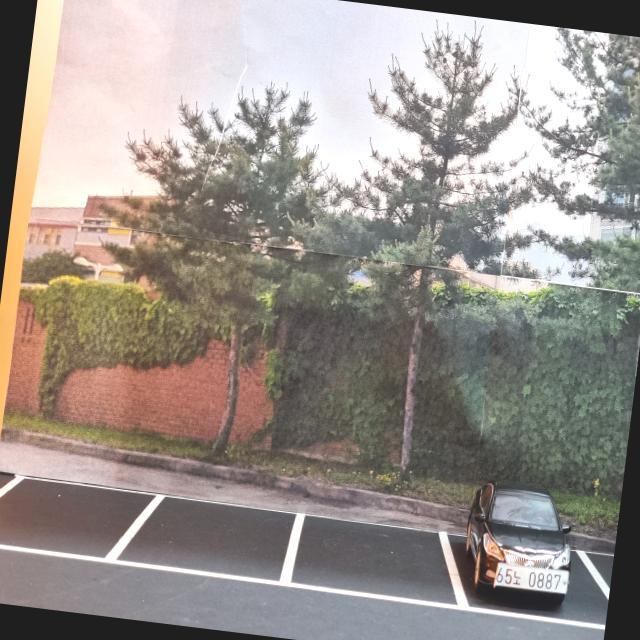car: (454, 468, 599, 630)
free: (98, 478, 306, 592), (281, 501, 477, 618), (0, 465, 158, 576)
